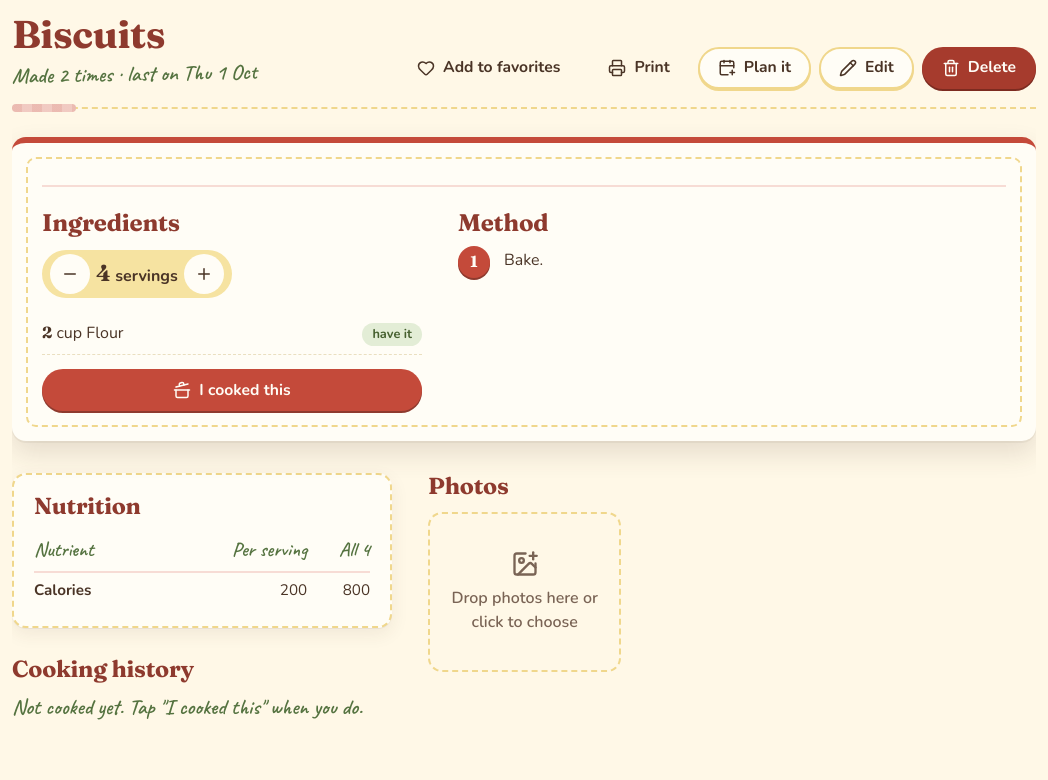
it: scales ingredients when servings change
Expected: the text "2" is shown, x1=42 y1=322 x2=52 y2=342
Step 1. Click the button named "More servings" → (204, 274), box x1=184 y1=254 x2=224 y2=294
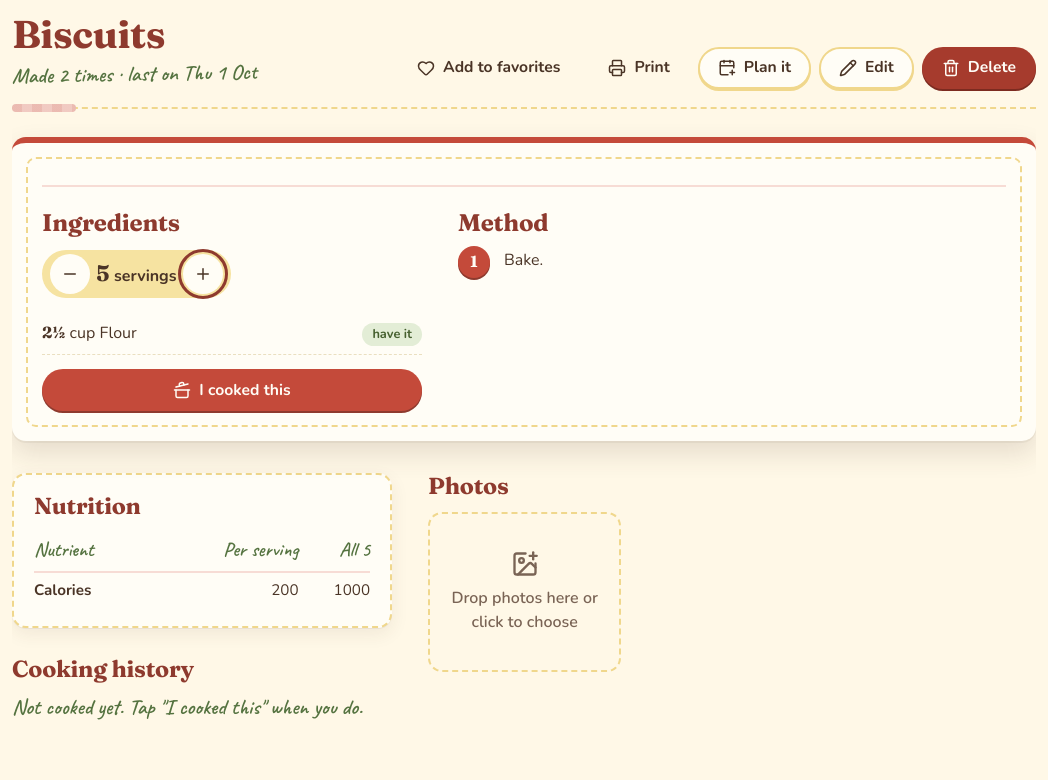
Step 2. Click the button named "More servings" → (203, 274), box x1=183 y1=254 x2=223 y2=294
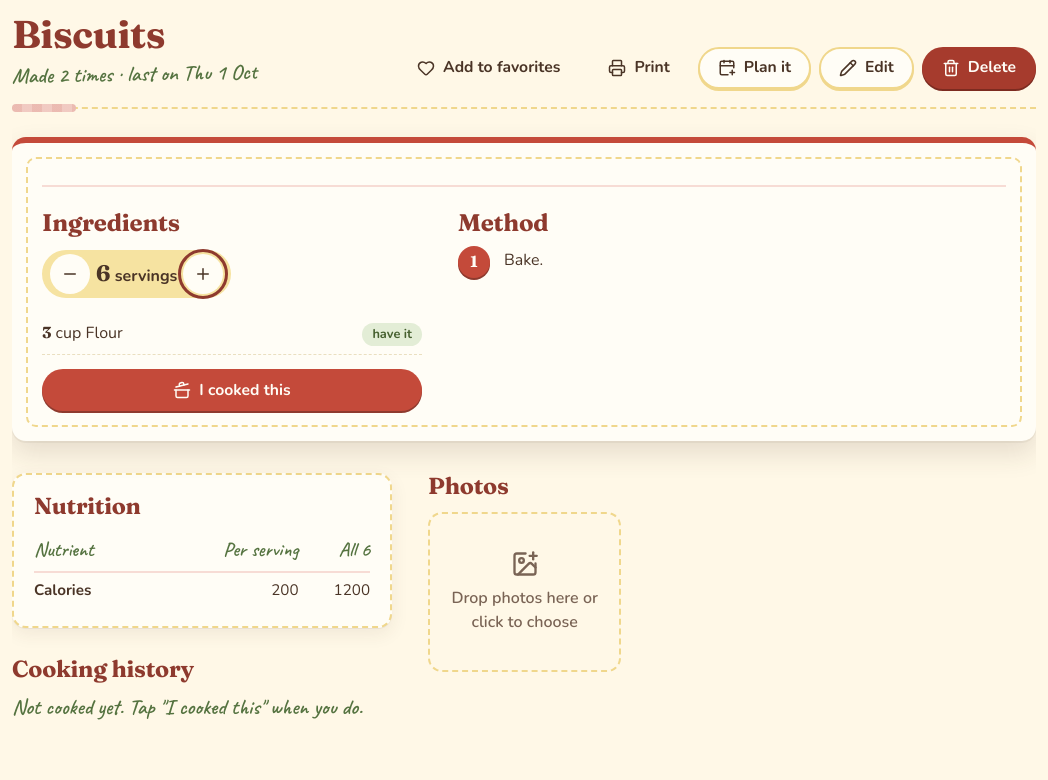
Expected: the text "Made 2 times · last on Thu 1 Oct" is shown, x1=12 y1=58 x2=257 y2=88
Result: the text "3" is shown at x1=42 y1=322 x2=52 y2=342
